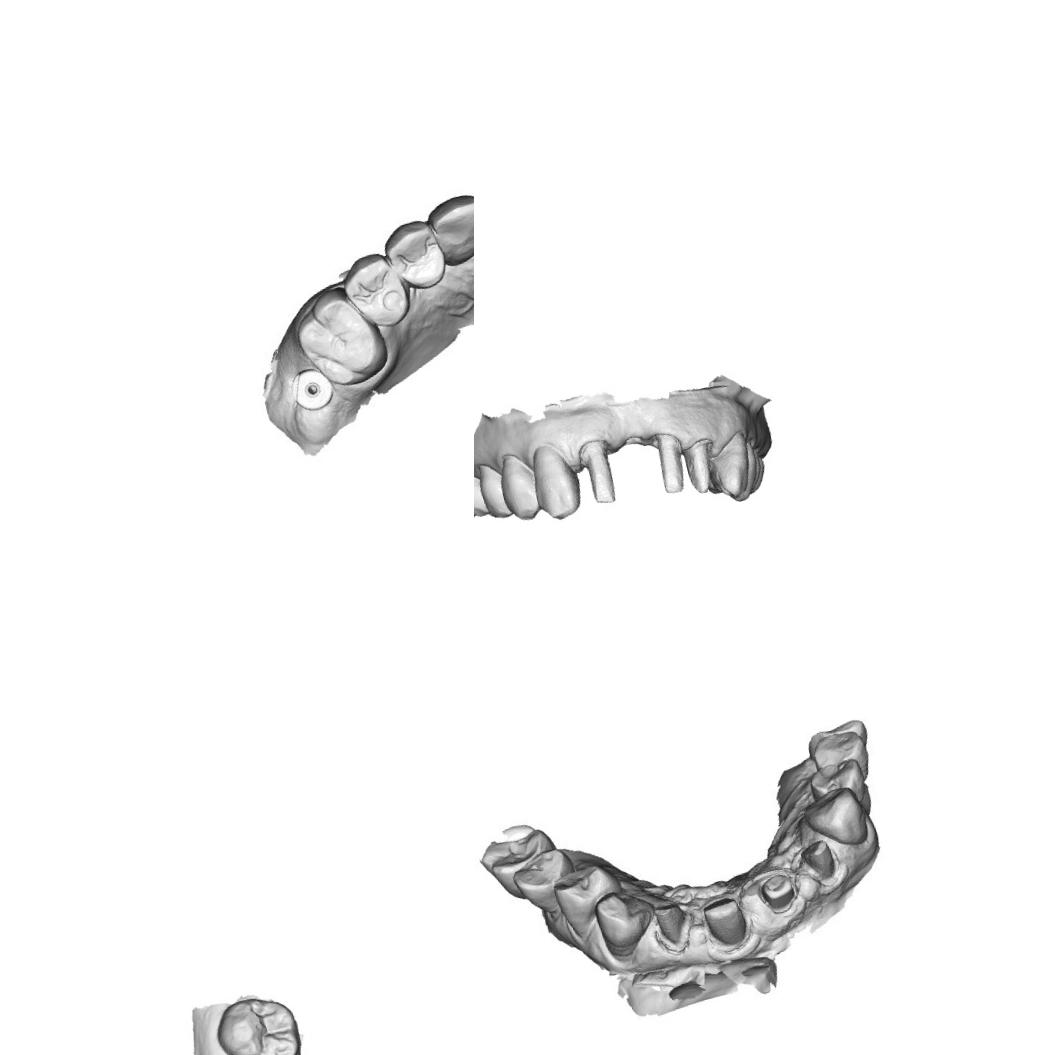canine: (589, 882, 664, 962), (521, 436, 587, 524), (796, 780, 871, 856), (425, 184, 474, 270)
crown: (575, 435, 626, 509), (698, 890, 754, 952), (644, 426, 692, 498), (675, 434, 723, 500), (794, 834, 842, 890), (650, 897, 692, 951)
implant: (286, 358, 340, 419), (754, 868, 800, 915)
molar: (290, 280, 388, 394), (207, 986, 307, 1055), (475, 825, 562, 886), (474, 462, 492, 522)
premolar: (549, 858, 630, 940), (506, 842, 583, 921), (346, 250, 408, 328), (490, 447, 546, 526), (385, 220, 445, 291), (807, 727, 873, 790), (803, 755, 870, 814), (474, 453, 513, 523)
